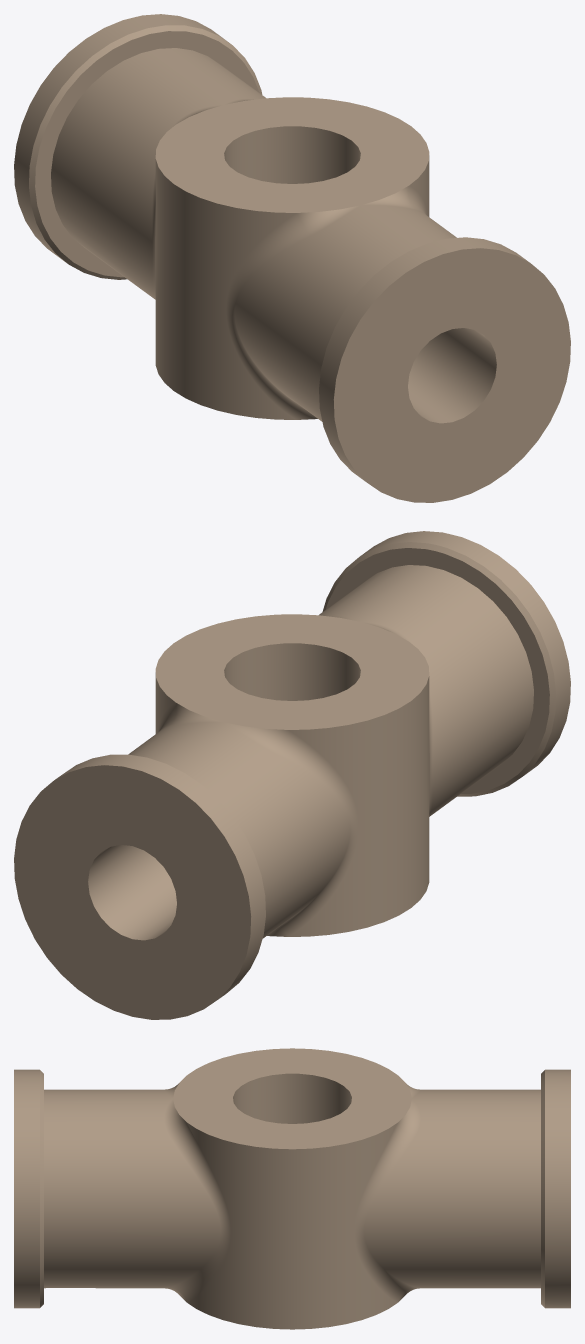
Rendered from mast_head_pivot.dae.
3 views of the same model, one above another, from view 1: azimuth 30°, elevation 25°; view 2: azimuth 150°, elevation 25°; view 3: azimuth 270°, elevation 25° (orthographic). The views are drawn at different scales.
Parts seen in each view (by area): view 1: Body_1; view 2: Body_1; view 3: Body_1.
Boxes of the visible parts, bbox=[...] form: Body_1: bbox=[14, 14, 570, 502]; Body_1: bbox=[14, 531, 570, 1019]; Body_1: bbox=[14, 1048, 570, 1329].
Size of the model in its own units: 0.12 by 0.28 by 0.12.
